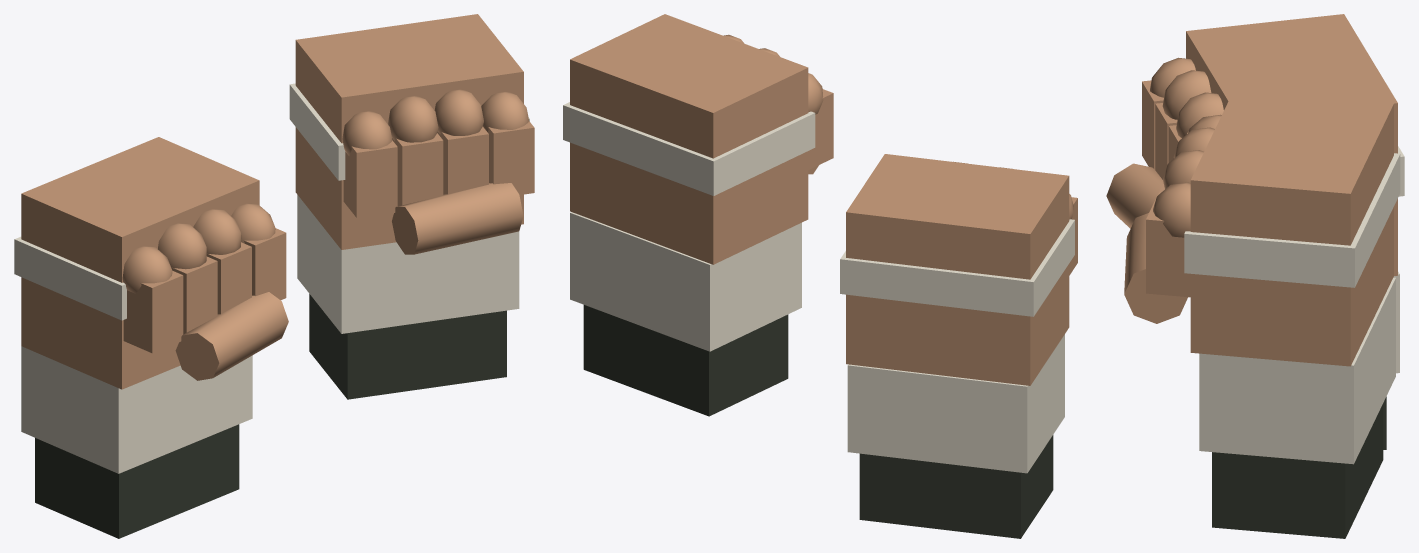
Rendered from fists.glb.
3 renders of one model, left to right at view 1: azimuth 30°, elevation 25°; view 2: azimuth 150°, elevation 25°; view 3: azimuth 270°, elevation 25°, orthographic. The views are drawn at different scales.
Parts seen in each view (by area): view 1: Fists; view 2: Fists; view 3: Fists.
Boxes of the visible parts, left/top/right/bottom form: Fists: left=14, top=14, right=534, bottom=538; Fists: left=563, top=14, right=1077, bottom=538; Fists: left=1106, top=14, right=1404, bottom=538.
Bounding box in the file's own units: 0.2256 × 0.1725 × 0.1096.
